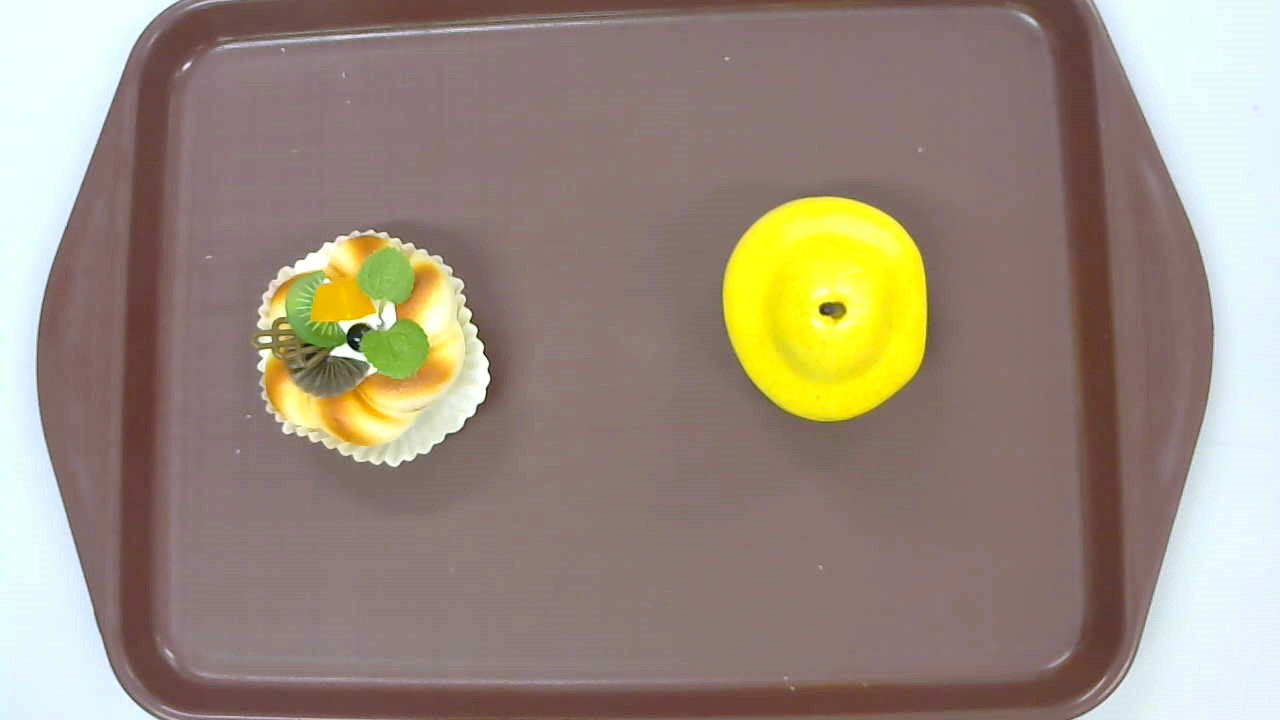fruit tart: (247, 230, 490, 469)
yellow pear: (722, 196, 930, 422)
